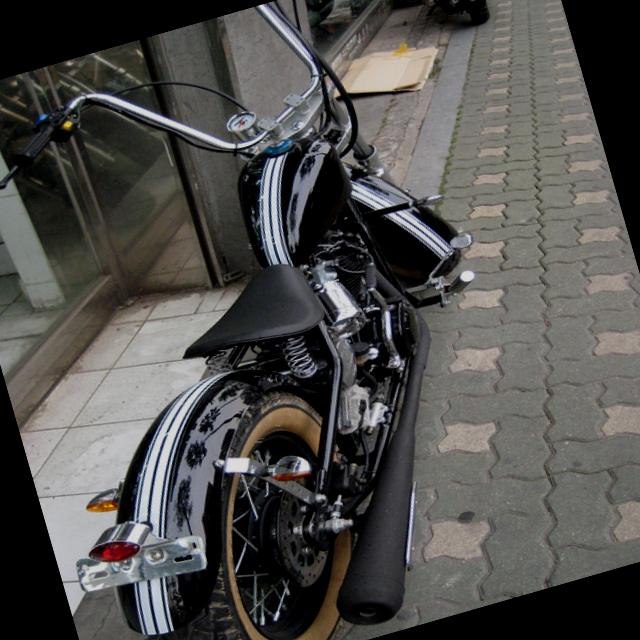Vehicle: (0, 0, 576, 640), (410, 0, 527, 36)
